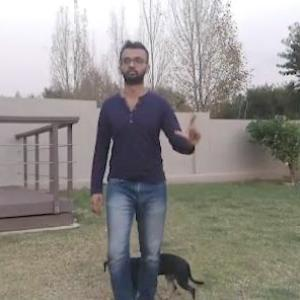land_hand: (172, 107, 205, 149)
